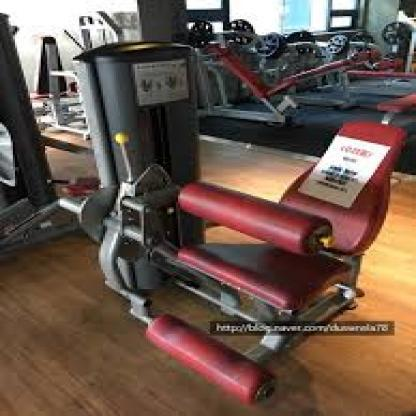leg extension: (34, 30, 416, 407)
